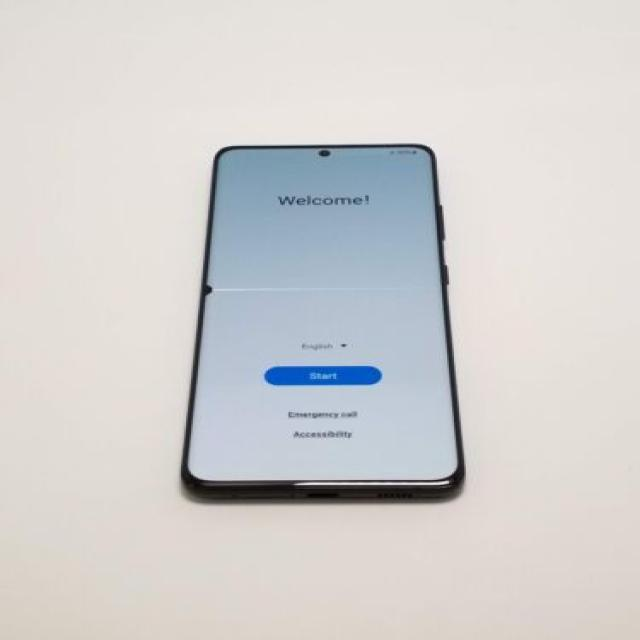dead pixel: (179, 279, 229, 303)
